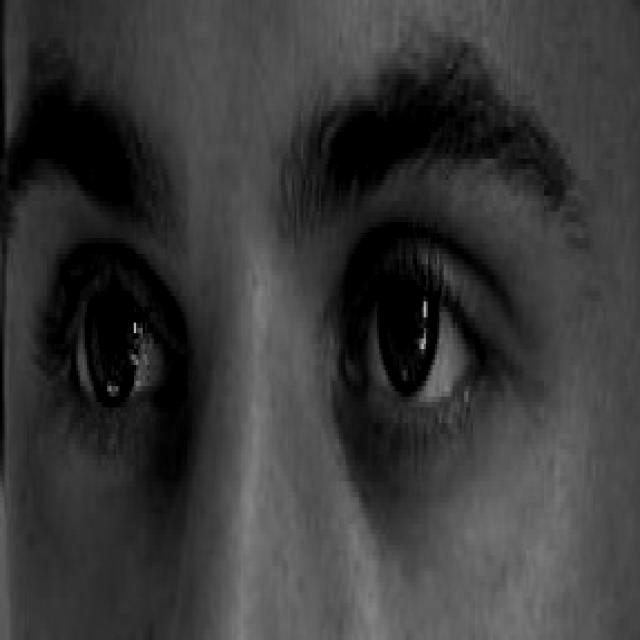real: (26, 142, 551, 532)
